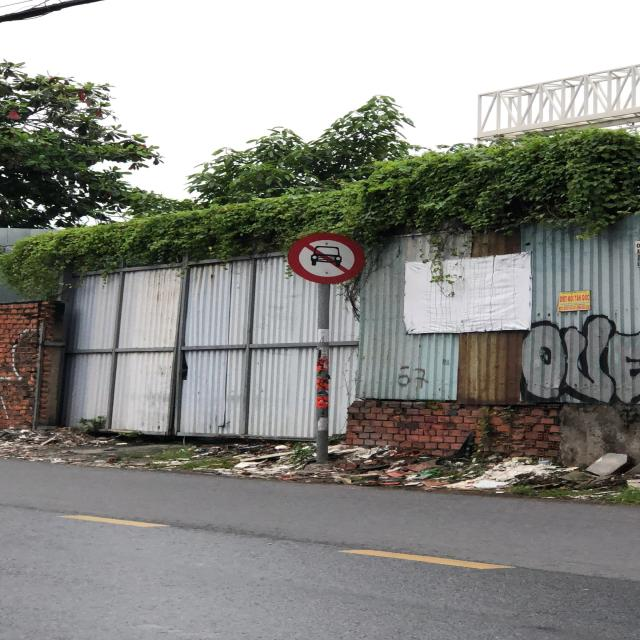Bien bao cam xe oto: (285, 230, 372, 286)
